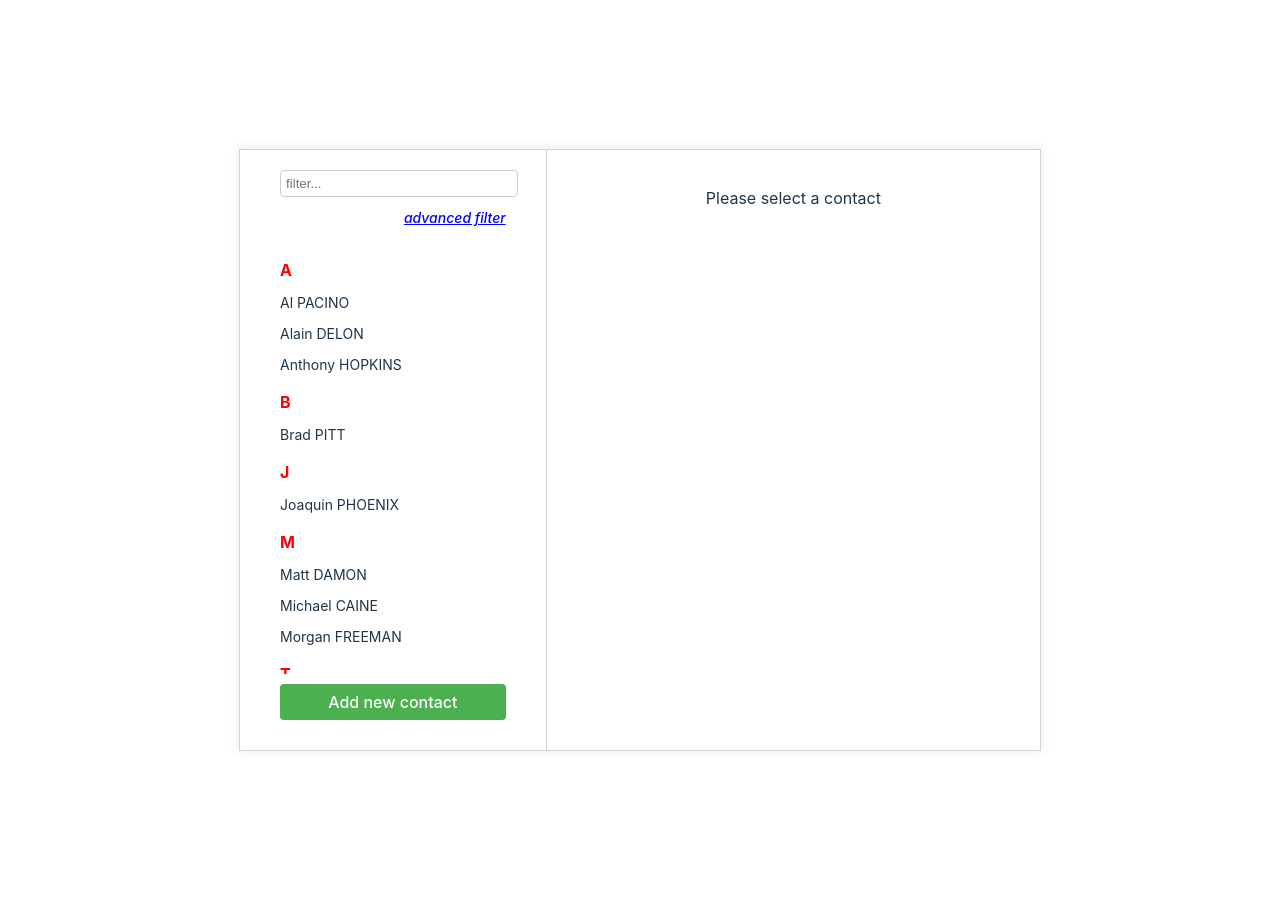
Main Component › should open and close the add contact popup
Click the button "Add new contact" at (393, 702), box [280,684,506,720]
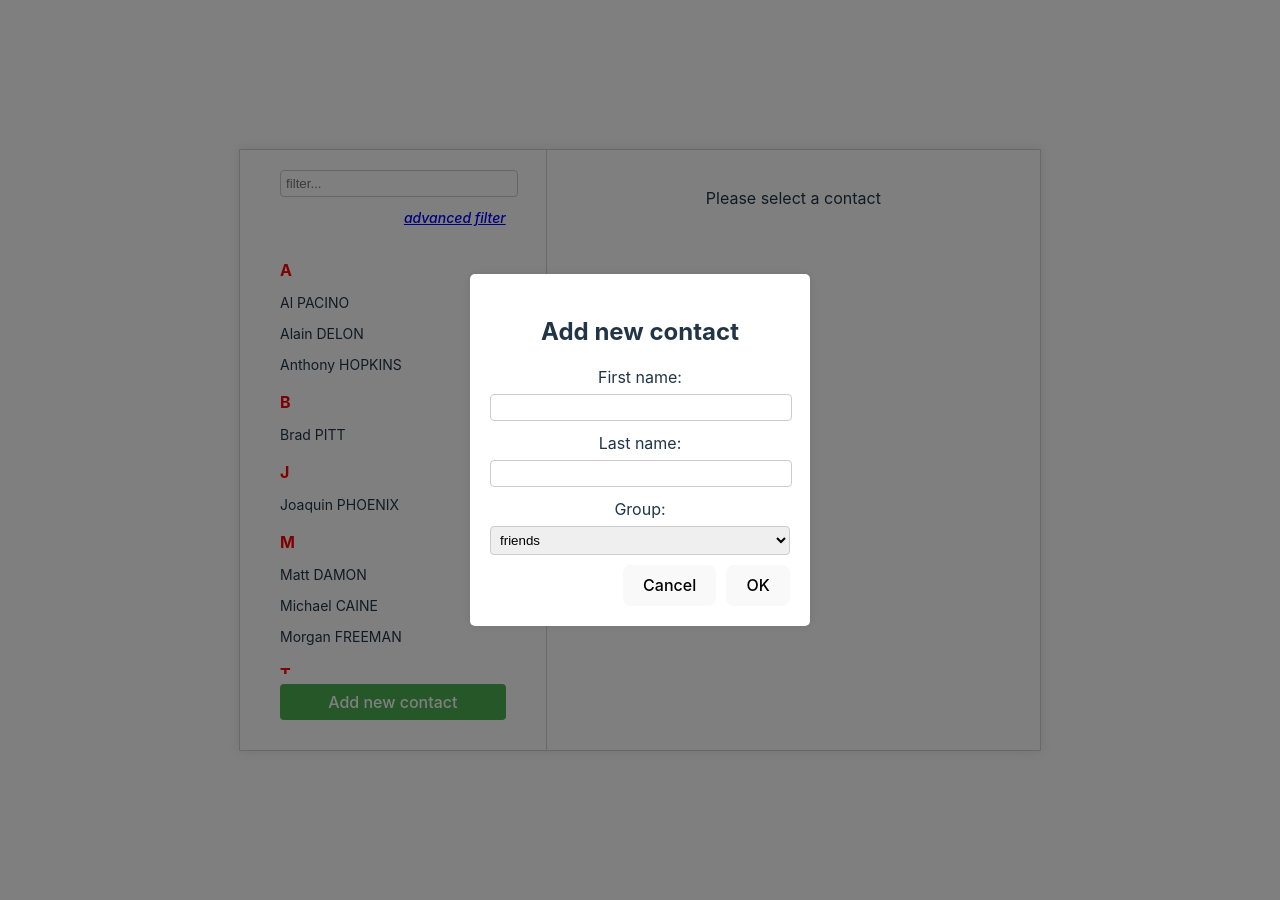
Expected: the text "First name:" is shown, [598,367,682,387]
Click the button "Cancel" at (670, 586), box [623,565,716,606]
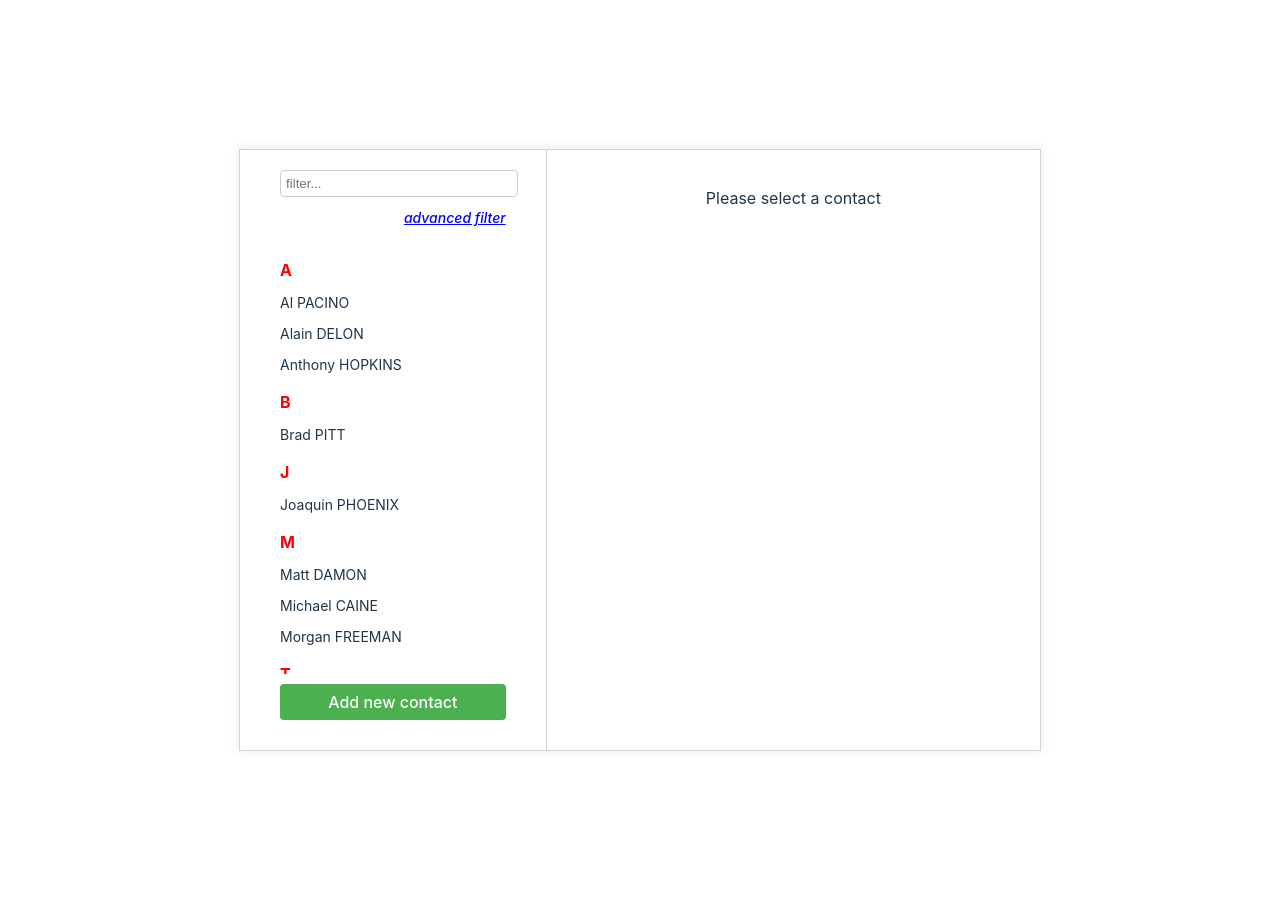
Expected: the text "First name:" is gone
